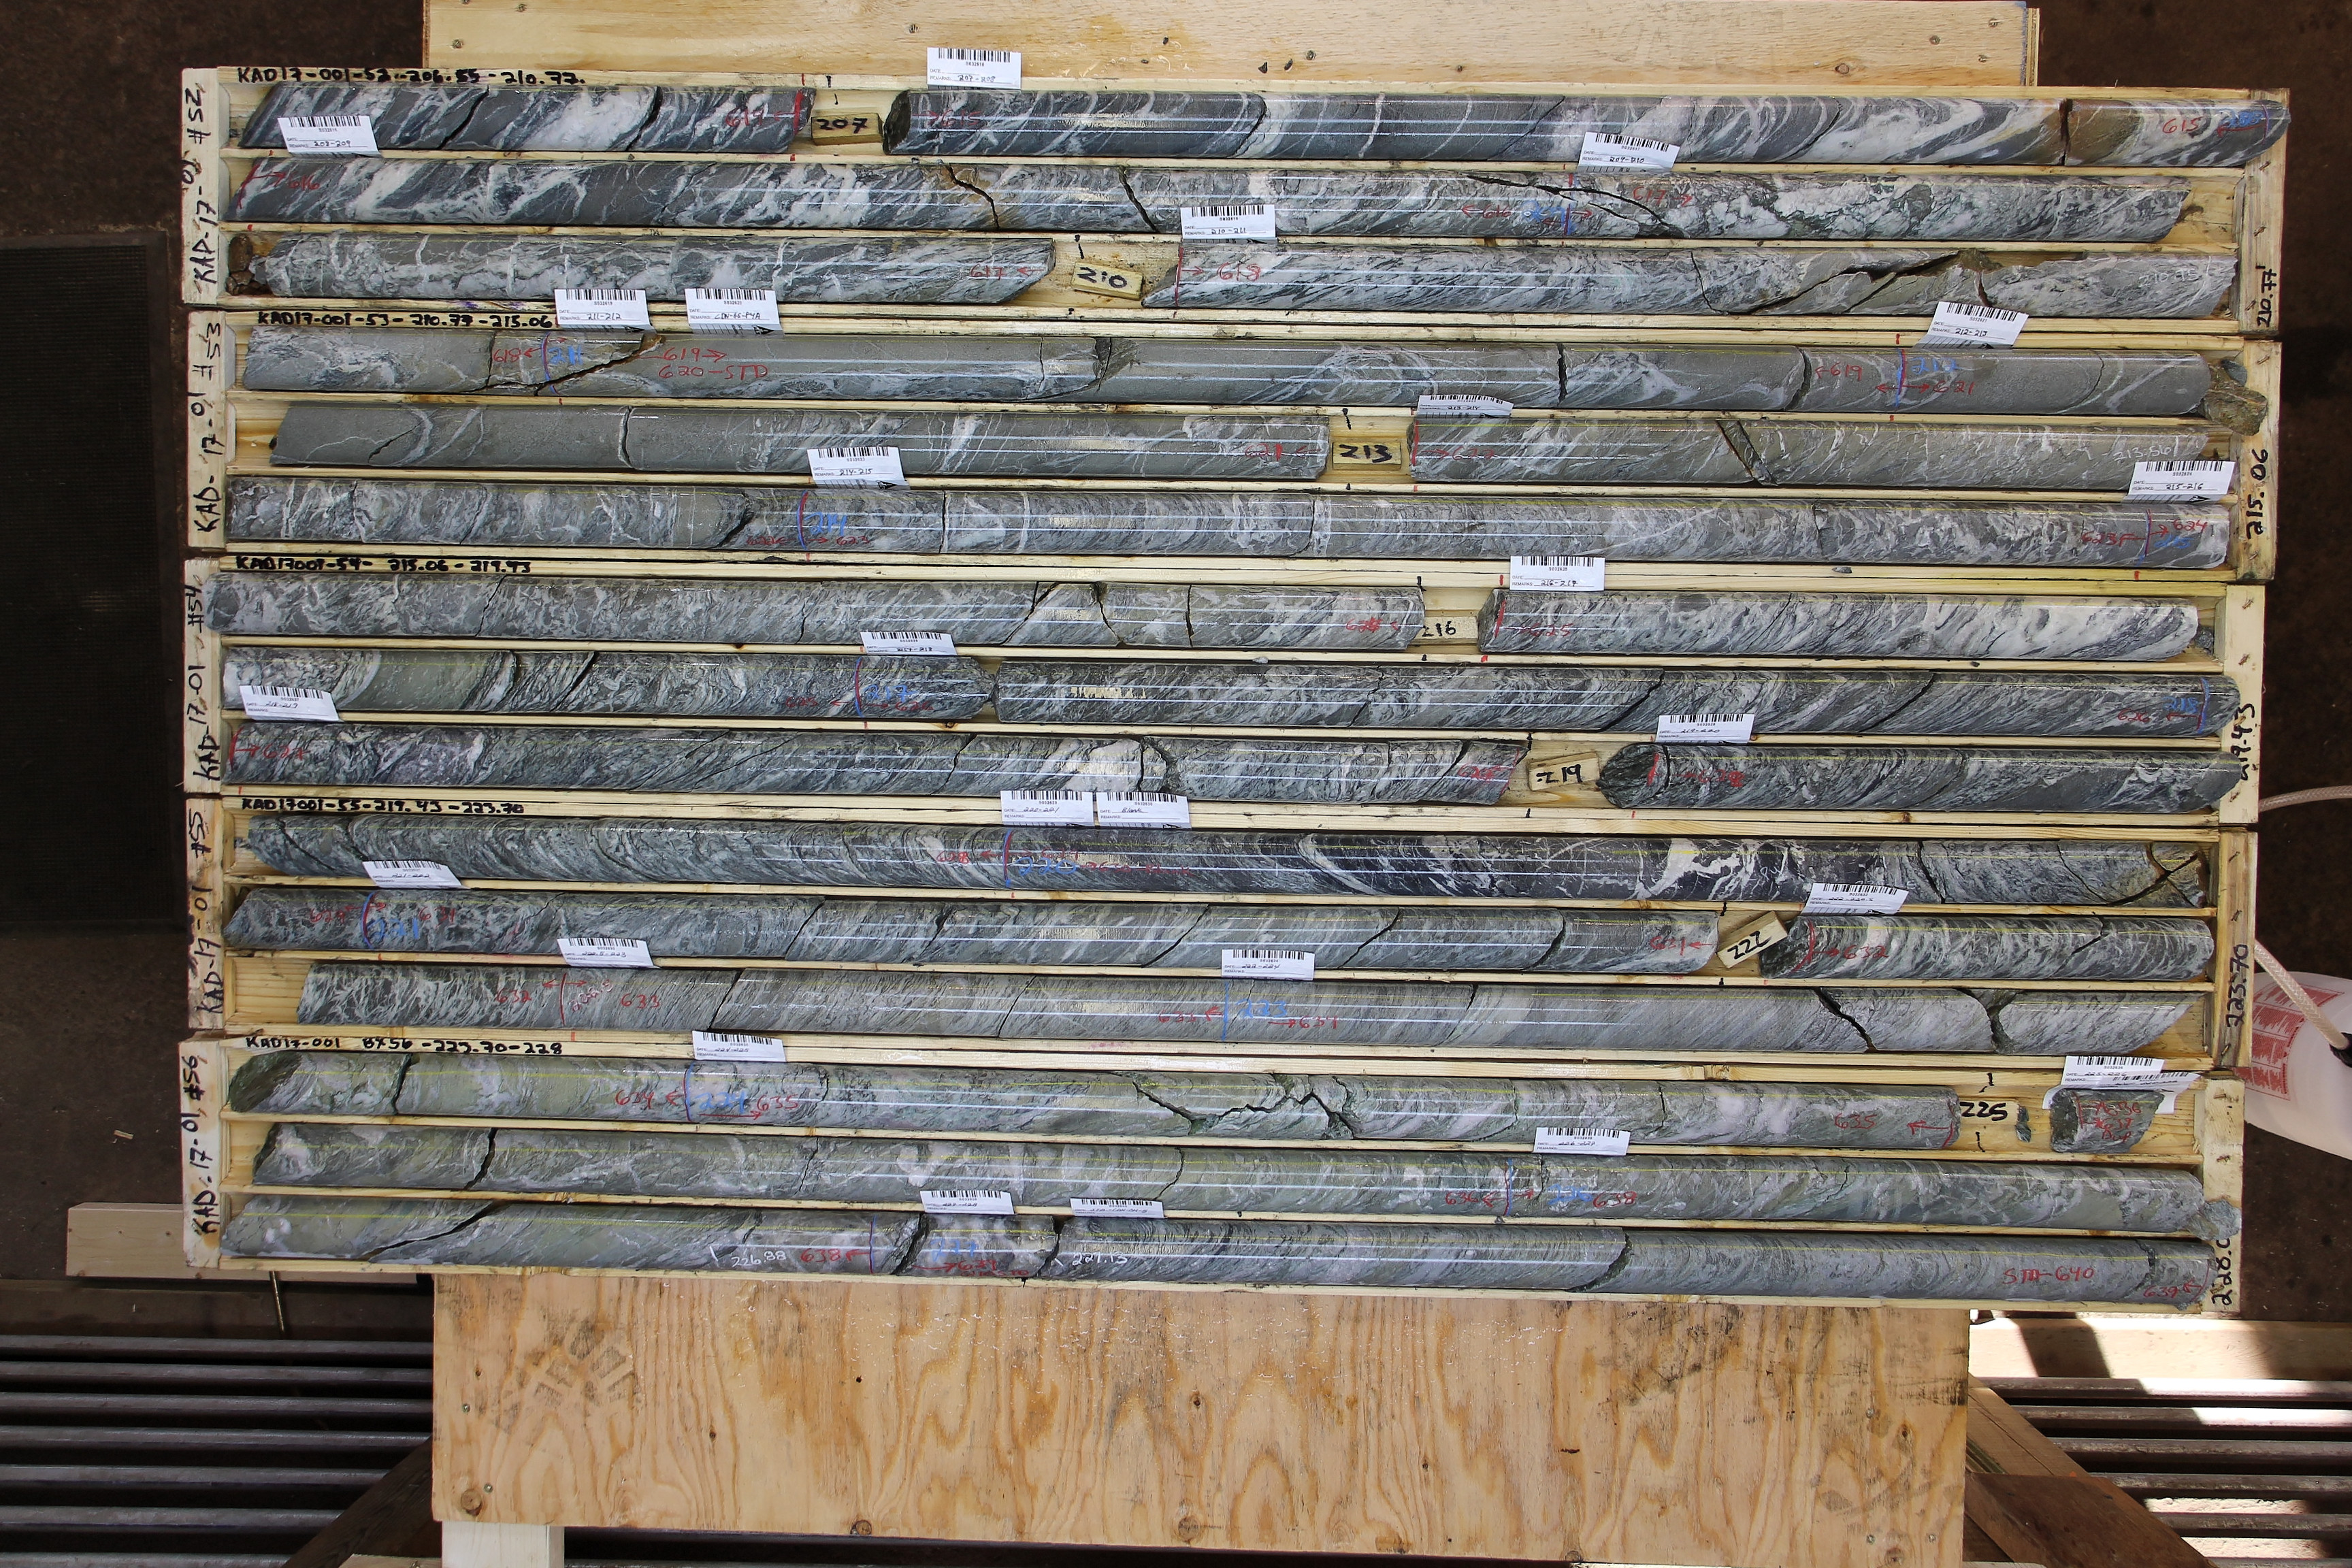rock-KAD17_001-206.55-207: (244, 84, 798, 150)
rock-KAD17_001-207-208: (904, 93, 2245, 163)
rock-KAD17_001-208-209: (250, 159, 1566, 239)
rock-KAD17_001-209-209x: (1569, 172, 2193, 242)
rock-KAD17_001-209x-210: (233, 234, 1053, 304)
rock-KAD17_001-210-210x: (1171, 240, 2234, 314)
rock-KAD17_001-210x-211: (248, 327, 548, 393)
rock-KAD17_001-211-212: (548, 329, 1900, 413)
rock-KAD17_001-212-212x: (1900, 352, 2215, 415)
rock-KAD17_001-212x-213: (274, 407, 1329, 480)
rock-KAD17_001-213-213x: (1414, 421, 2202, 489)
rock-KAD17_001-213x-214: (232, 481, 801, 549)
rock-KAD17_001-214-215: (800, 490, 2146, 563)
rock-KAD17_001-215-215x: (2146, 506, 2230, 566)
rock-KAD17_001-215x-216: (216, 576, 1422, 650)
rock-KAD17_001-216-216x: (1490, 593, 2195, 660)
rock-KAD17_001-216x-217: (223, 649, 860, 719)
rock-KAD17_001-217-218: (862, 657, 2201, 734)
rock-KAD17_001-218-219: (235, 727, 1513, 806)
rock-KAD17_001-219-219x: (1640, 747, 2214, 813)
rock-KAD17_001-219x-220: (248, 814, 1009, 885)
rock-KAD17_001-220-220x: (1010, 834, 2213, 903)
rock-KAD17_001-220x-221: (227, 888, 364, 949)
rock-KAD17_001-221-222: (367, 893, 1722, 970)
rock-KAD17_001-222-222x: (1799, 917, 2211, 980)
rock-KAD17_001-222x-223: (298, 964, 1226, 1040)
rock-KAD17_001-223-223x: (1226, 987, 2202, 1053)
rock-KAD17_001-223x-224: (244, 1052, 687, 1119)
rock-KAD17_001-224-225: (689, 1065, 1959, 1145)
rock-KAD17_001-225-225x: (2055, 1089, 2160, 1151)
rock-KAD17_001-225x-226: (267, 1128, 1508, 1216)
rock-KAD17_001-226-226x: (1508, 1156, 2200, 1228)
rock-KAD17_001-226x-227: (226, 1198, 877, 1273)
rock-KAD17_001-227-228.00: (878, 1213, 2203, 1305)
